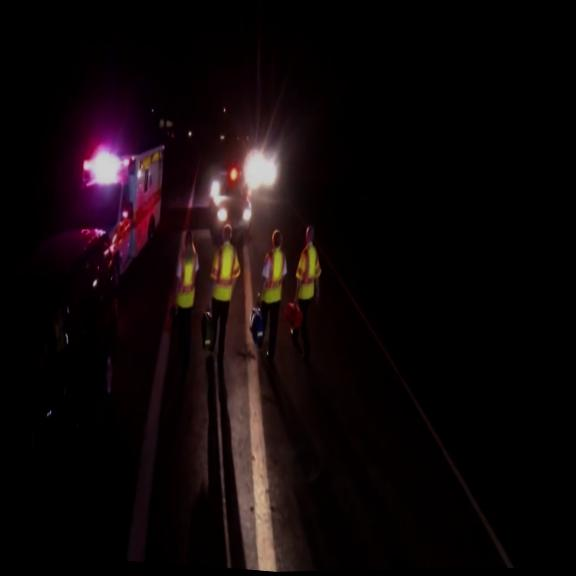safety_vest: (207, 241, 245, 305), (292, 240, 328, 303), (259, 246, 288, 304), (174, 248, 200, 311)
